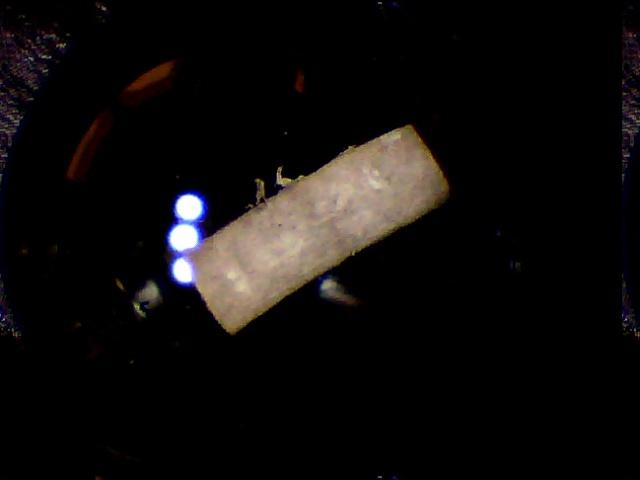megot: (175, 107, 465, 346)
